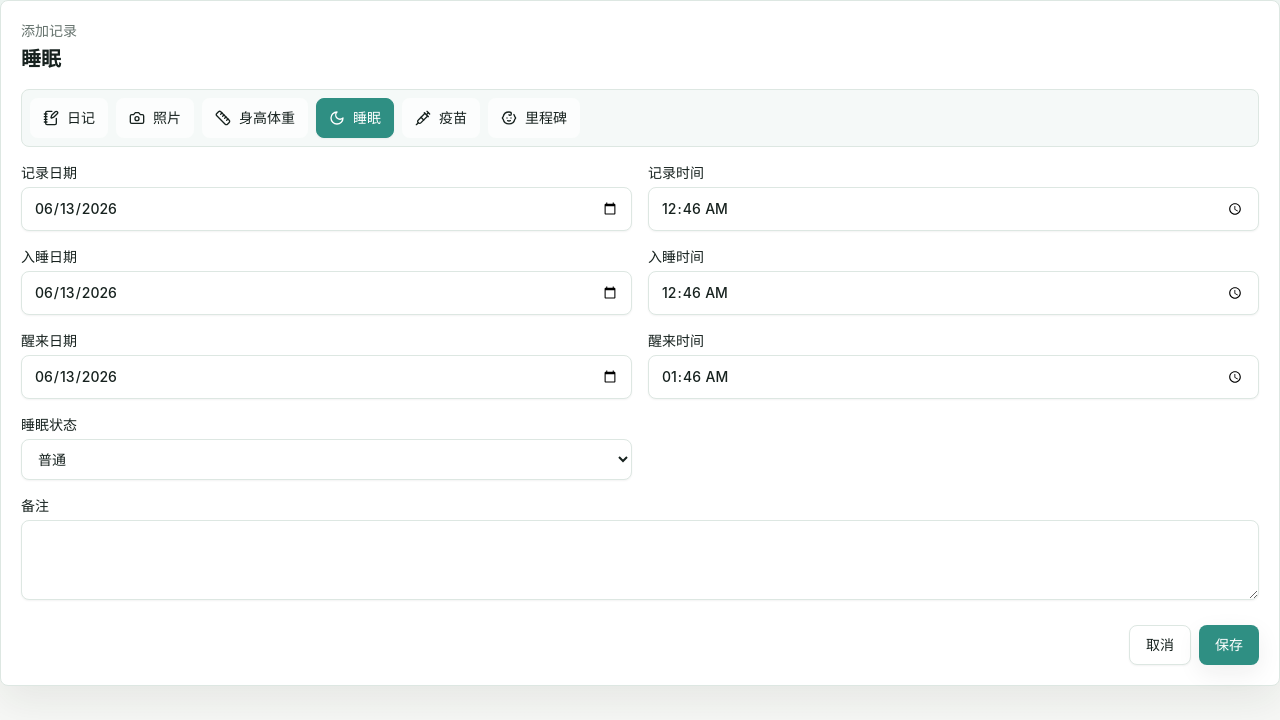
Test: RecordComposer › shows an accessible local error when sleep end time is before start time
The width and height of the screenshot is (1280, 720).
Type "2026-06-12" into the date field labelled "入睡日期".
click(326, 293); type("2026-06-12")  # box [21,271,632,315]
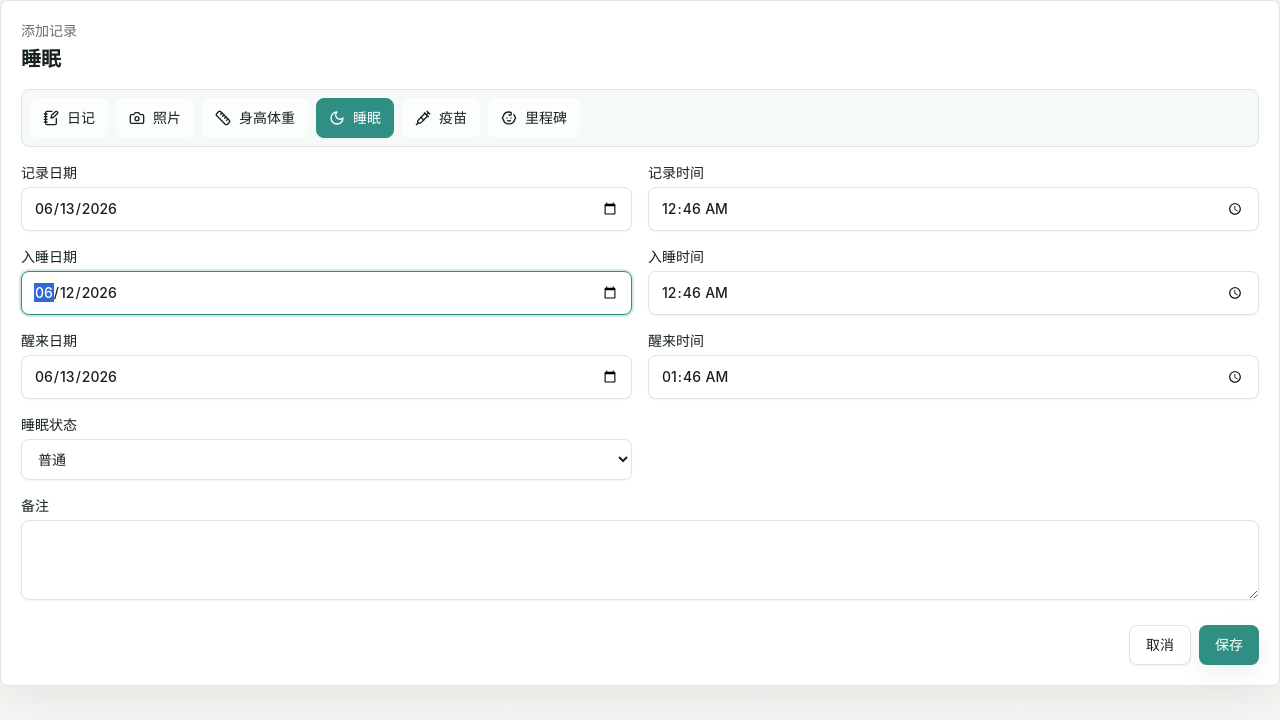
Replace the text in the time field labelled "入睡时间" with "22:00" at (954, 293), box [648,271,1259,315]
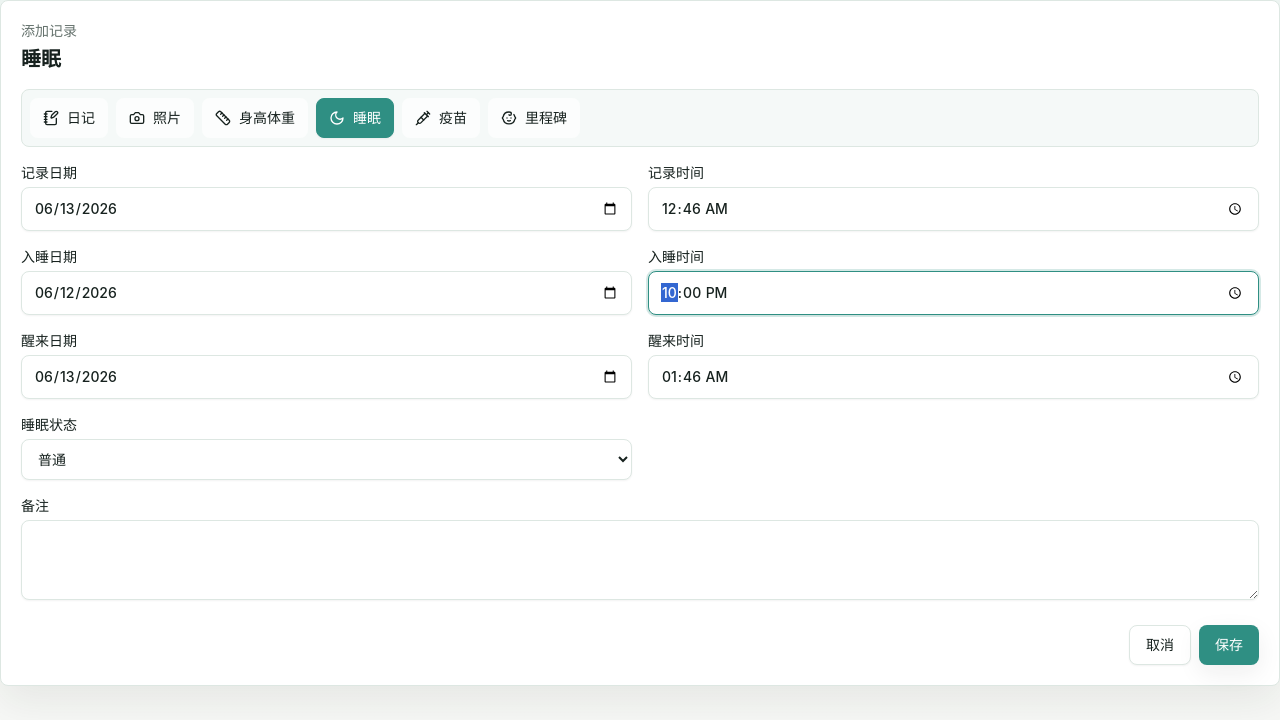
Type "2026-06-12" into the date field labelled "醒来日期".
click(326, 377); type("2026-06-12")  # box [21,355,632,399]
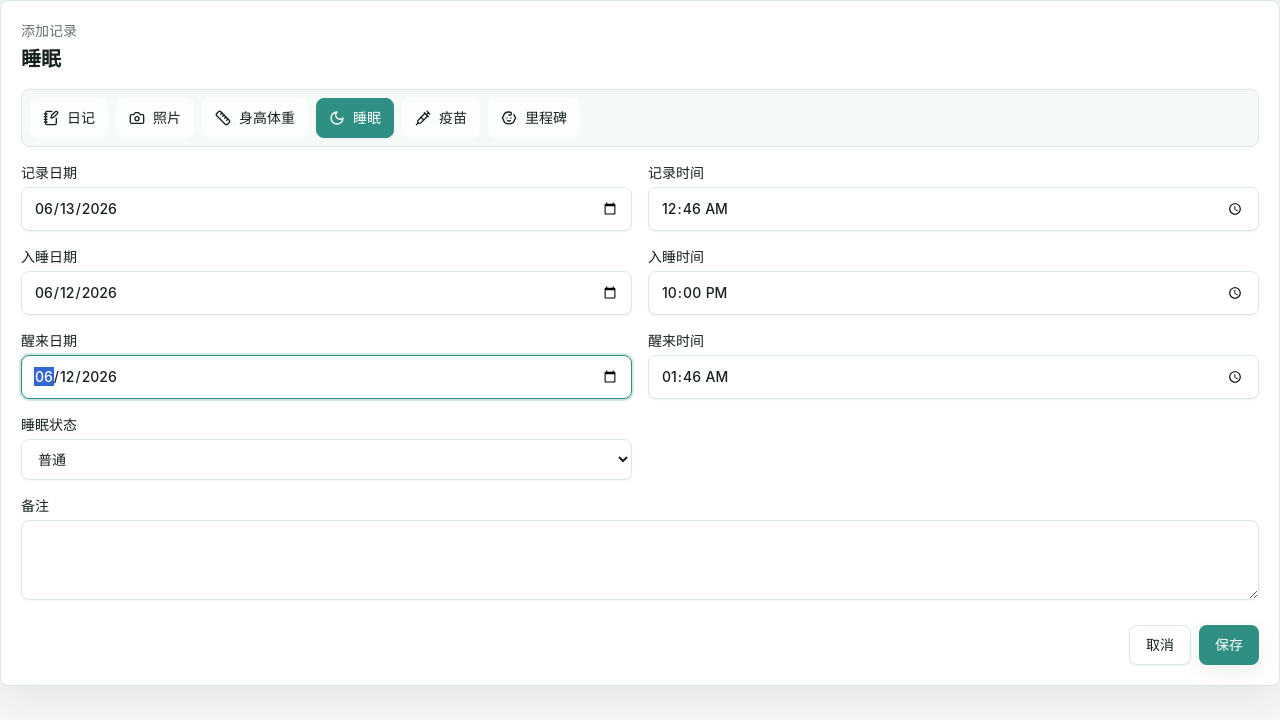
Replace the text in the time field labelled "醒来时间" with "21:30" at (954, 377), box [648,355,1259,399]
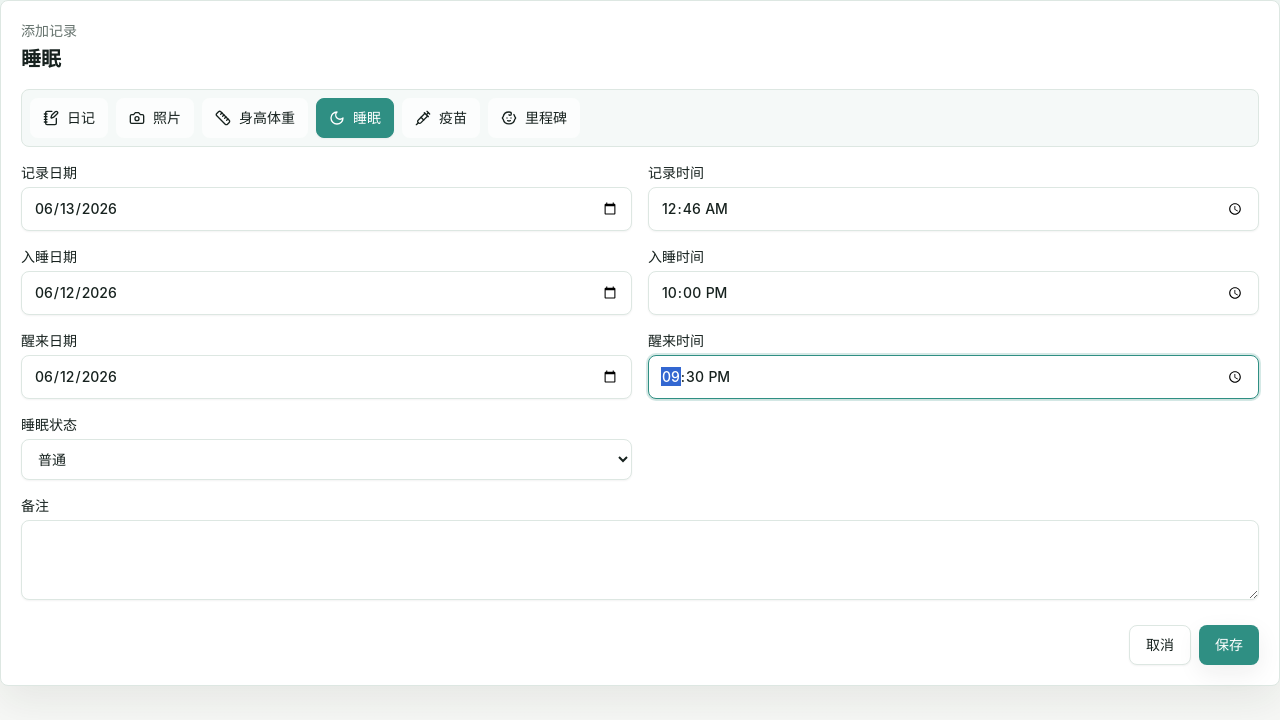
Click the button "保存".
click(1229, 645)  # box [1199,625,1259,665]
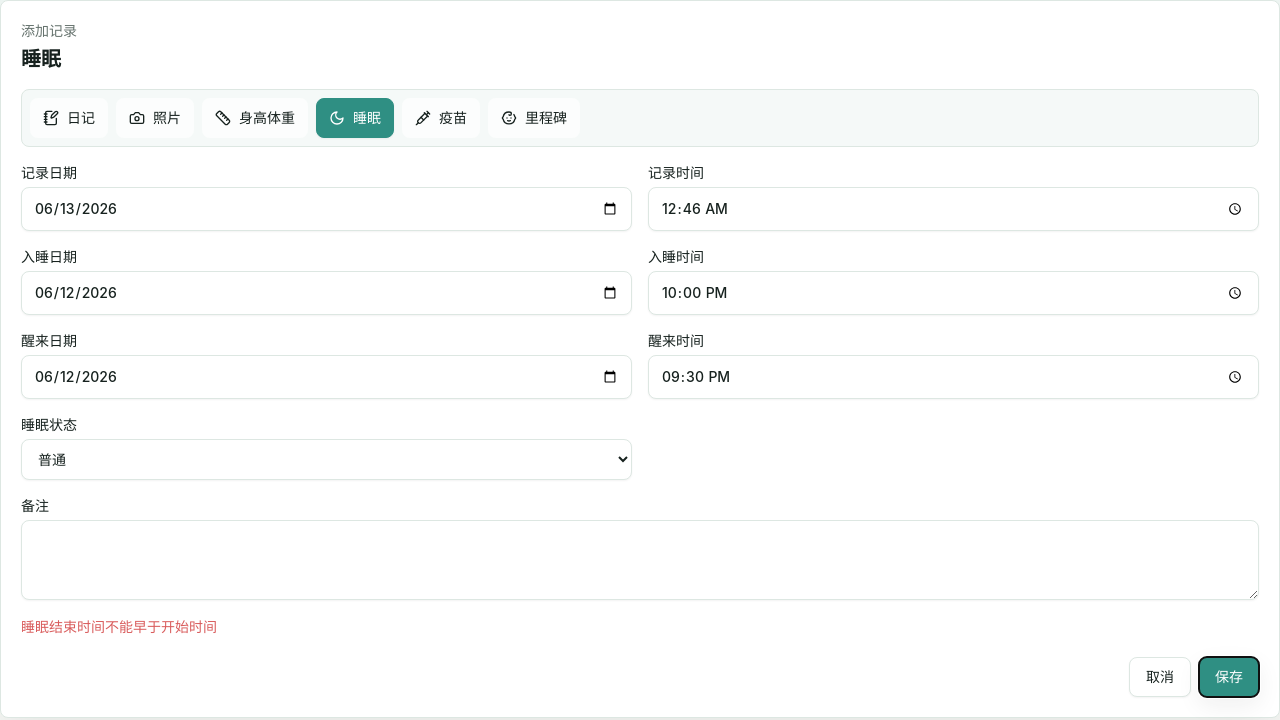
Now the message reads "睡眠结束时间不能早于开始时间", box [21,618,217,635]
